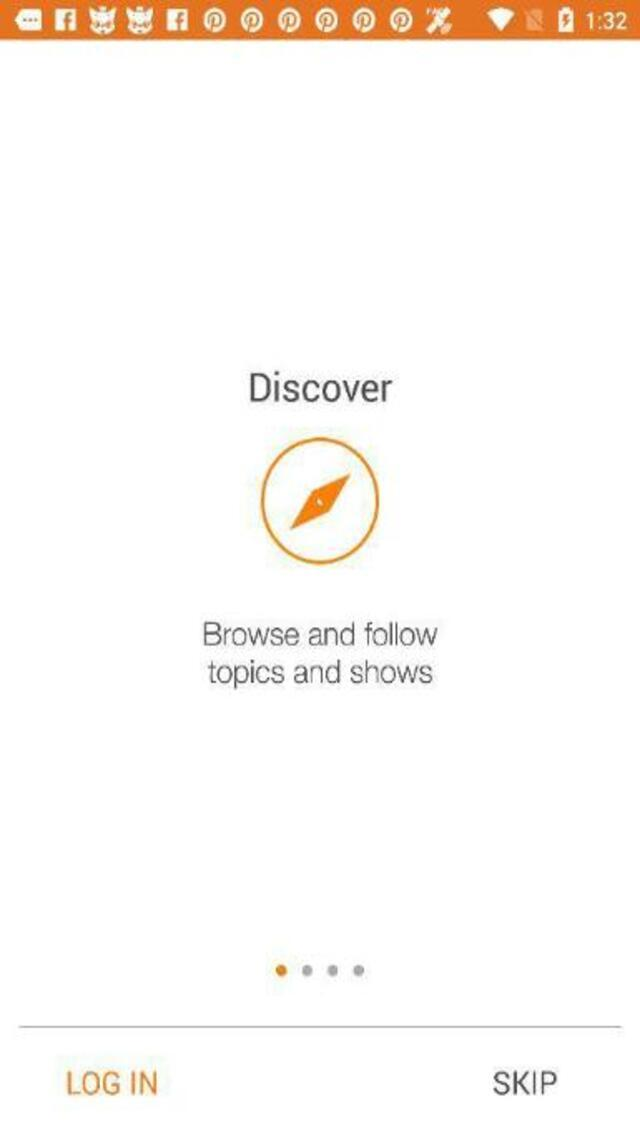Icon: (259, 436, 379, 564)
Text: (206, 656, 438, 692), (193, 619, 441, 650), (250, 370, 392, 402), (66, 1070, 156, 1096), (494, 1068, 557, 1094)
